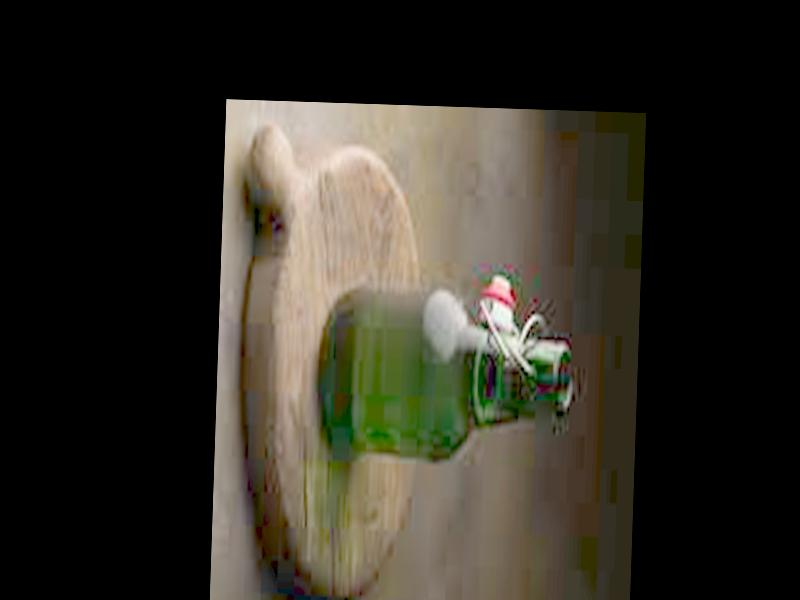Beer: (321, 287, 578, 460)
